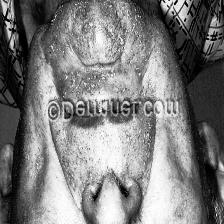Non-Cancerous Skin Condition: (33, 124, 192, 224), (36, 12, 166, 100)
